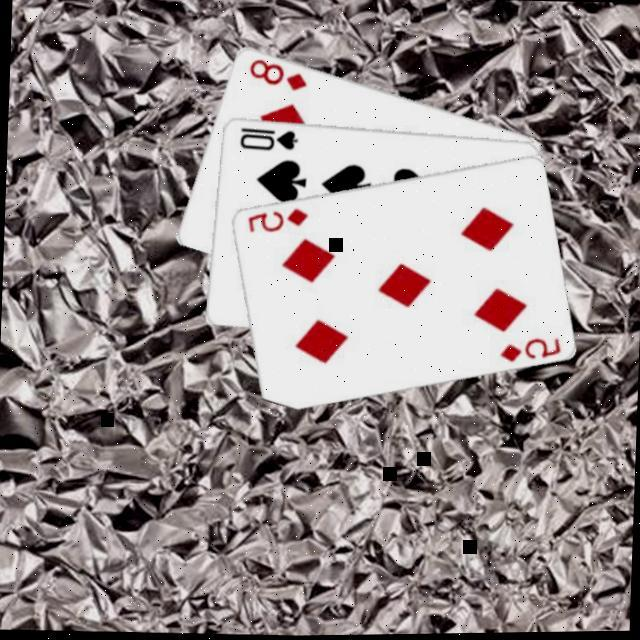10S: (233, 124, 298, 156)
5D: (242, 204, 308, 238), (494, 334, 560, 368)
8D: (243, 56, 308, 95)
